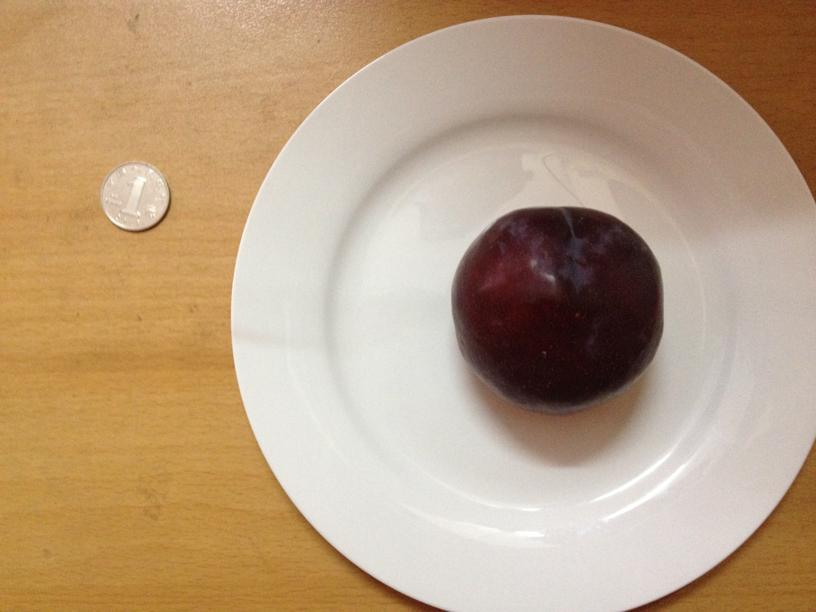coin: (99, 159, 167, 230)
plum: (449, 211, 663, 403)
